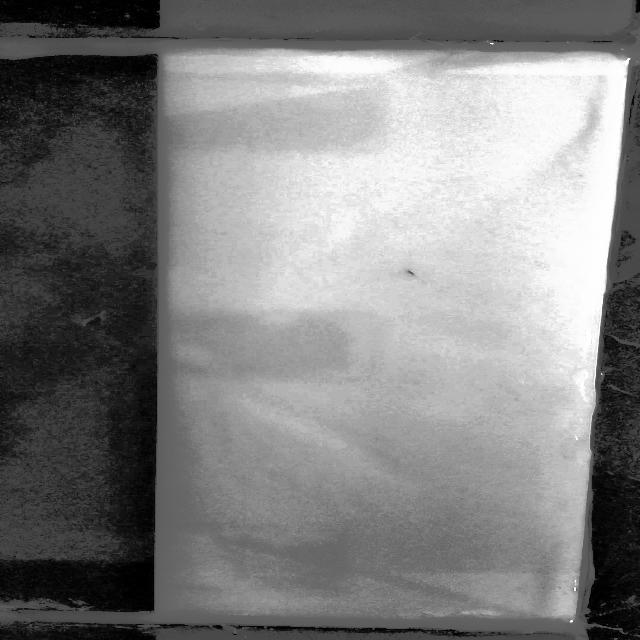shrimp: (394, 262, 422, 284)
